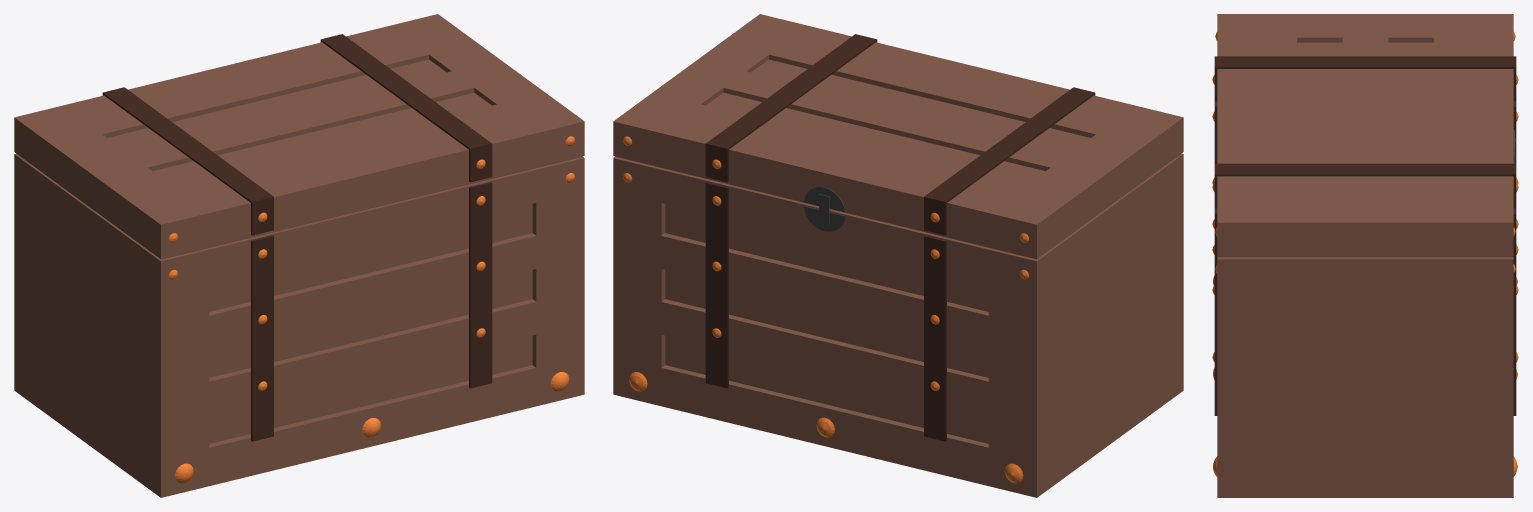
The model's file is Chest.fbx.
3 renders of one model, left to right at view 1: azimuth 30°, elevation 25°; view 2: azimuth 150°, elevation 25°; view 3: azimuth 270°, elevation 25°, orthographic.
Parts seen in each view (by area): view 1: Chest; view 2: Chest; view 3: Chest.
Boxes of the visible parts, left/top/right/bottom form: Chest: left=14, top=14, right=584, bottom=497; Chest: left=613, top=14, right=1183, bottom=497; Chest: left=1212, top=14, right=1518, bottom=497.
Size of the model in its own units: 46.55 by 75 by 46.51.
